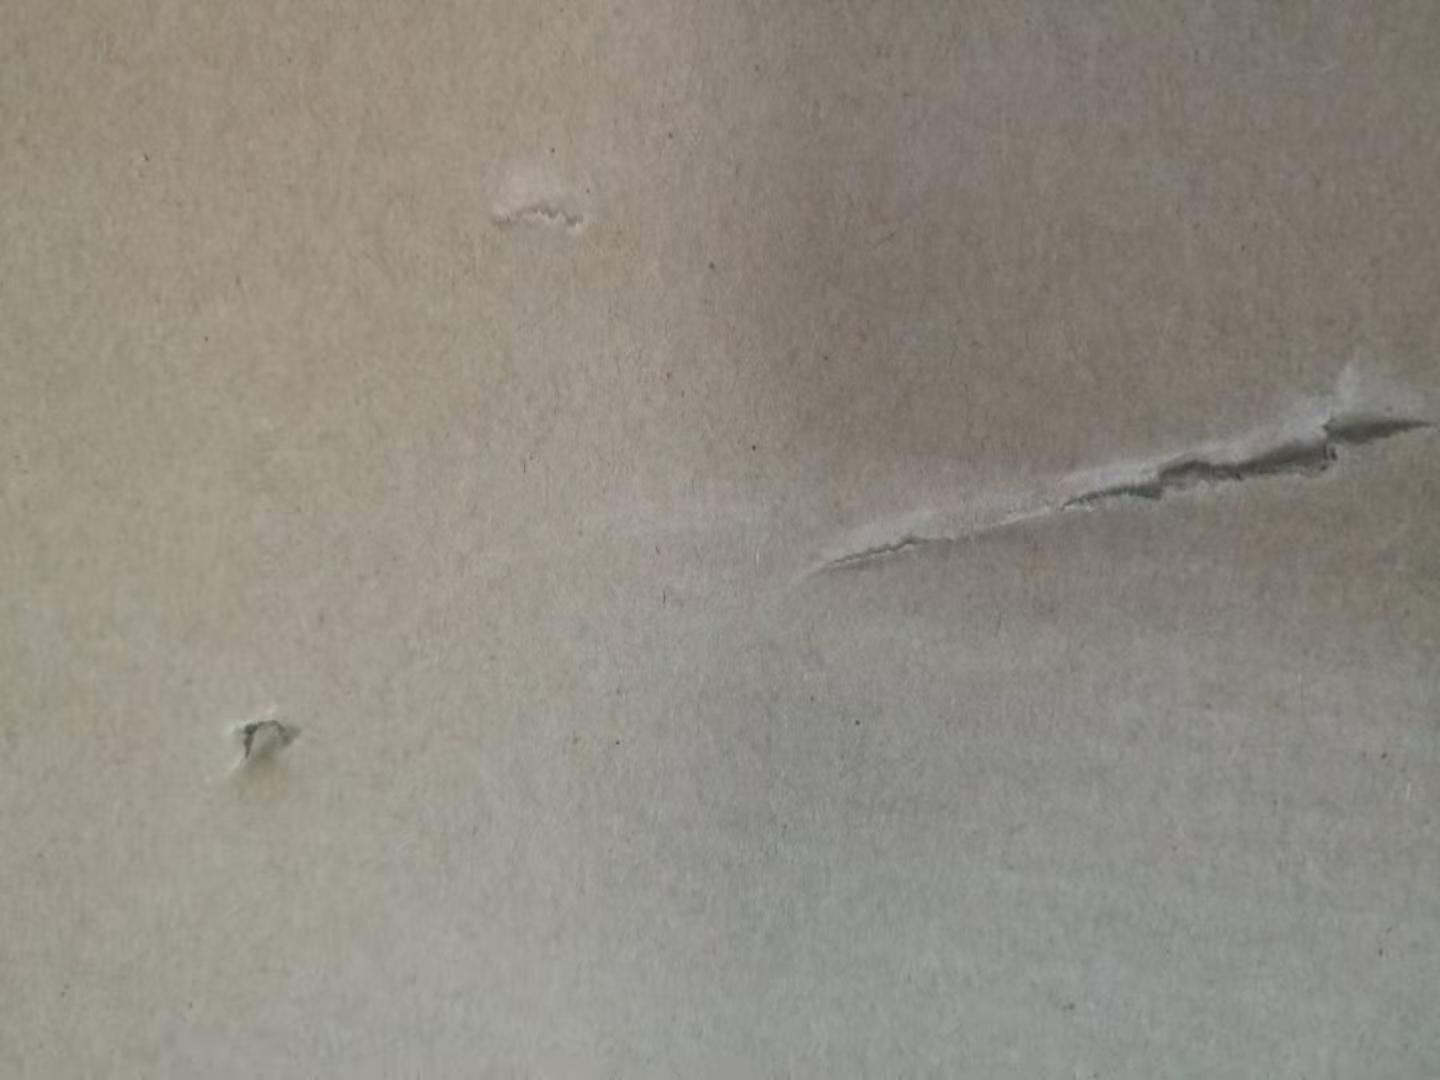defect: (766, 321, 1439, 619), (204, 687, 322, 818), (471, 157, 612, 258)
